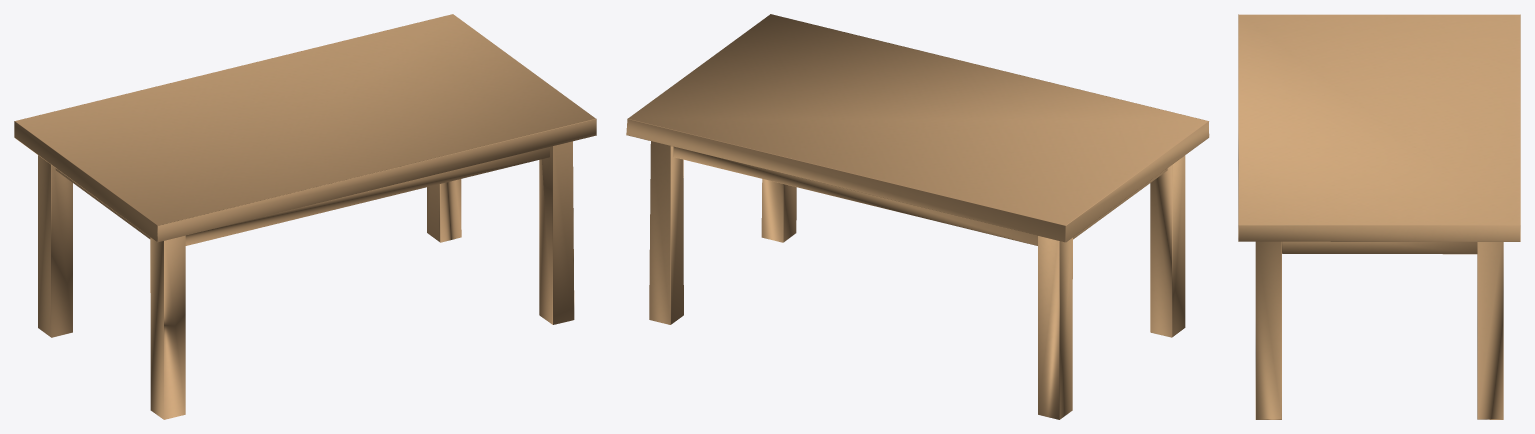
Rendered from dining_table.fbx.
3 views of the same model, side by side, from view 1: azimuth 30°, elevation 25°; view 2: azimuth 150°, elevation 25°; view 3: azimuth 270°, elevation 25° (orthographic).
Visible parts, largest first — view 1: Mesh_0; view 2: Mesh_0; view 3: Mesh_0.
Part boxes in pixels (box(x1,y1,x2,y2)): Mesh_0: box(14, 14, 596, 419); Mesh_0: box(626, 14, 1209, 419); Mesh_0: box(1238, 14, 1520, 419).
Bounding box in the file's own units: 95.26 × 42.24 × 53.66.
Materials: 1 (1 with a texture image).
